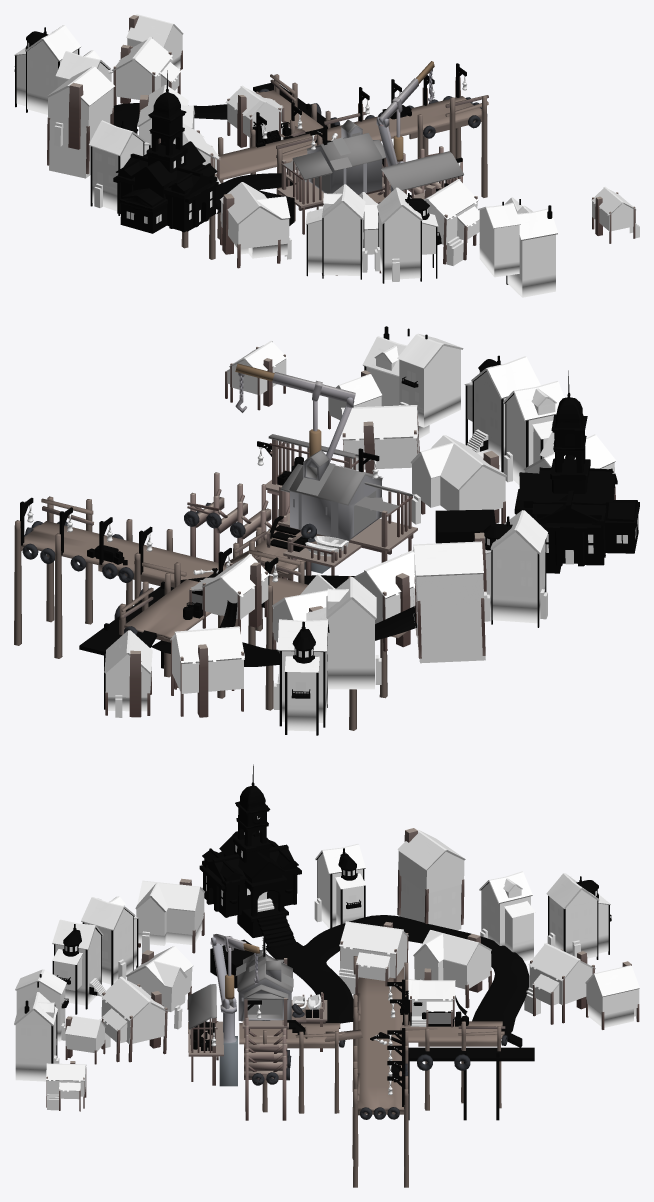
File: GM_Town (merge).fbx
The picture shows the model from 3 angles, top to bottom: view 1: azimuth 30°, elevation 25°; view 2: azimuth 150°, elevation 25°; view 3: azimuth 270°, elevation 25°; orthographic projection. The views are drawn at different scales.
Parts seen in each view (by area): view 1: GM_Town; view 2: GM_Town; view 3: GM_Town.
Part boxes in pixels (x1,y1,x2,y2): GM_Town: (14,14,639,297); GM_Town: (14,326,639,735); GM_Town: (14,764,639,1187).
Bounding box in the file's own units: 19.85 × 11.43 × 25.94.
